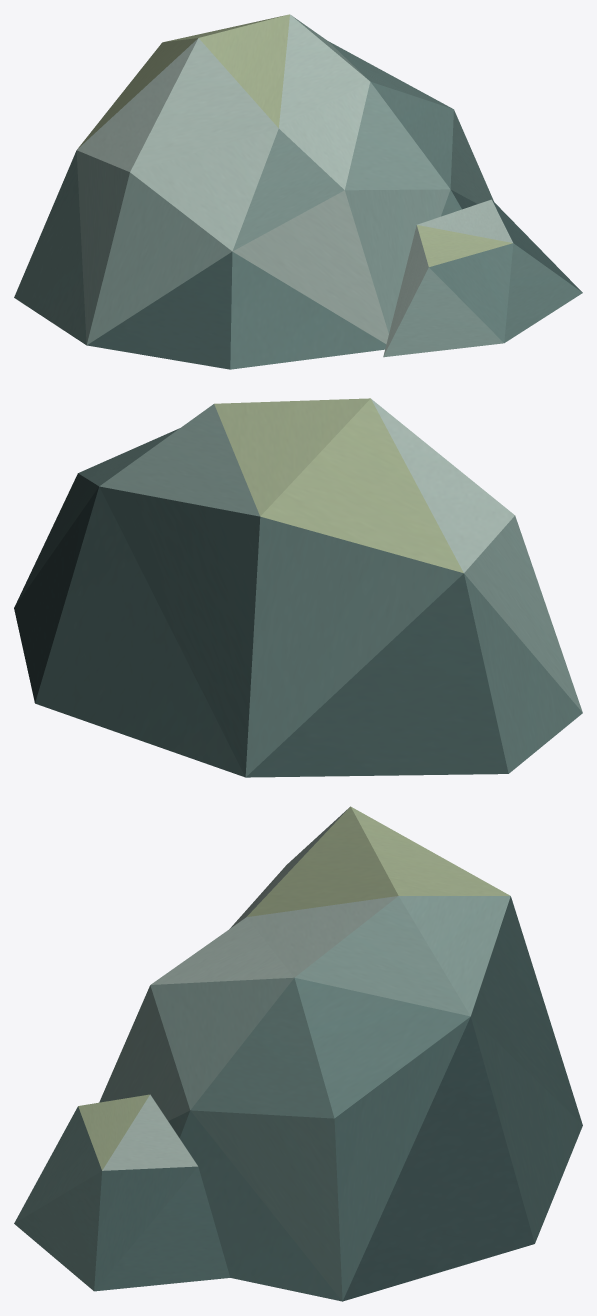
The model's file is 03_shore_rock_A.obj.
3 views of the same model, one above another, from view 1: azimuth 30°, elevation 25°; view 2: azimuth 150°, elevation 25°; view 3: azimuth 270°, elevation 25° (orthographic). The views are drawn at different scales.
Visible parts, largest first — view 1: Shore_Rock_A; view 2: Shore_Rock_A; view 3: Shore_Rock_A.
Part boxes in pixels (box(x1,y1,x2,y2)): Shore_Rock_A: box(14, 14, 582, 369); Shore_Rock_A: box(14, 398, 582, 777); Shore_Rock_A: box(14, 806, 582, 1301).
Bounding box in the file's own units: 1.62 × 0.86 × 1.42.
1 material, 1 textured.
